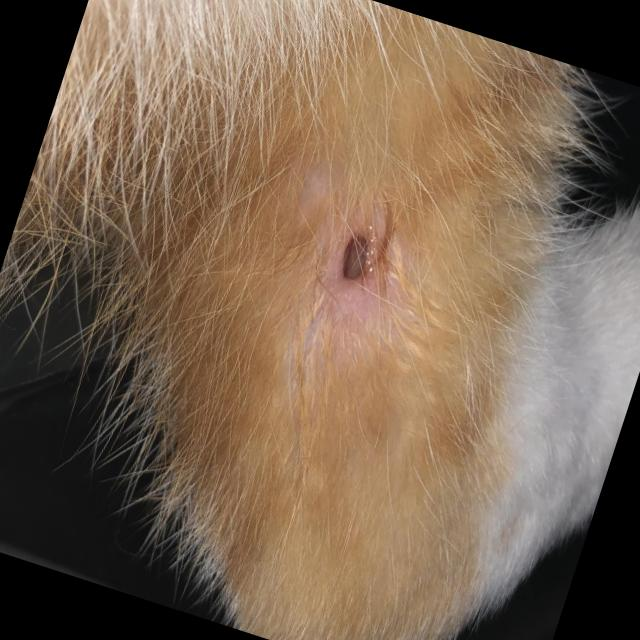Ringworm: (314, 214, 399, 310)
